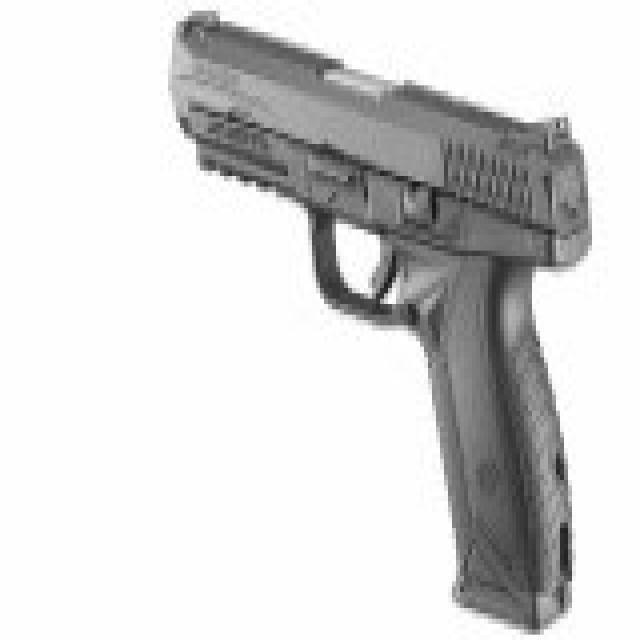Gun: (165, 6, 583, 616)
